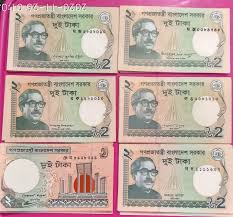2_taka: (5, 148, 110, 209), (124, 148, 227, 209), (10, 80, 112, 139), (125, 10, 224, 68), (125, 80, 224, 138), (16, 13, 113, 69)
